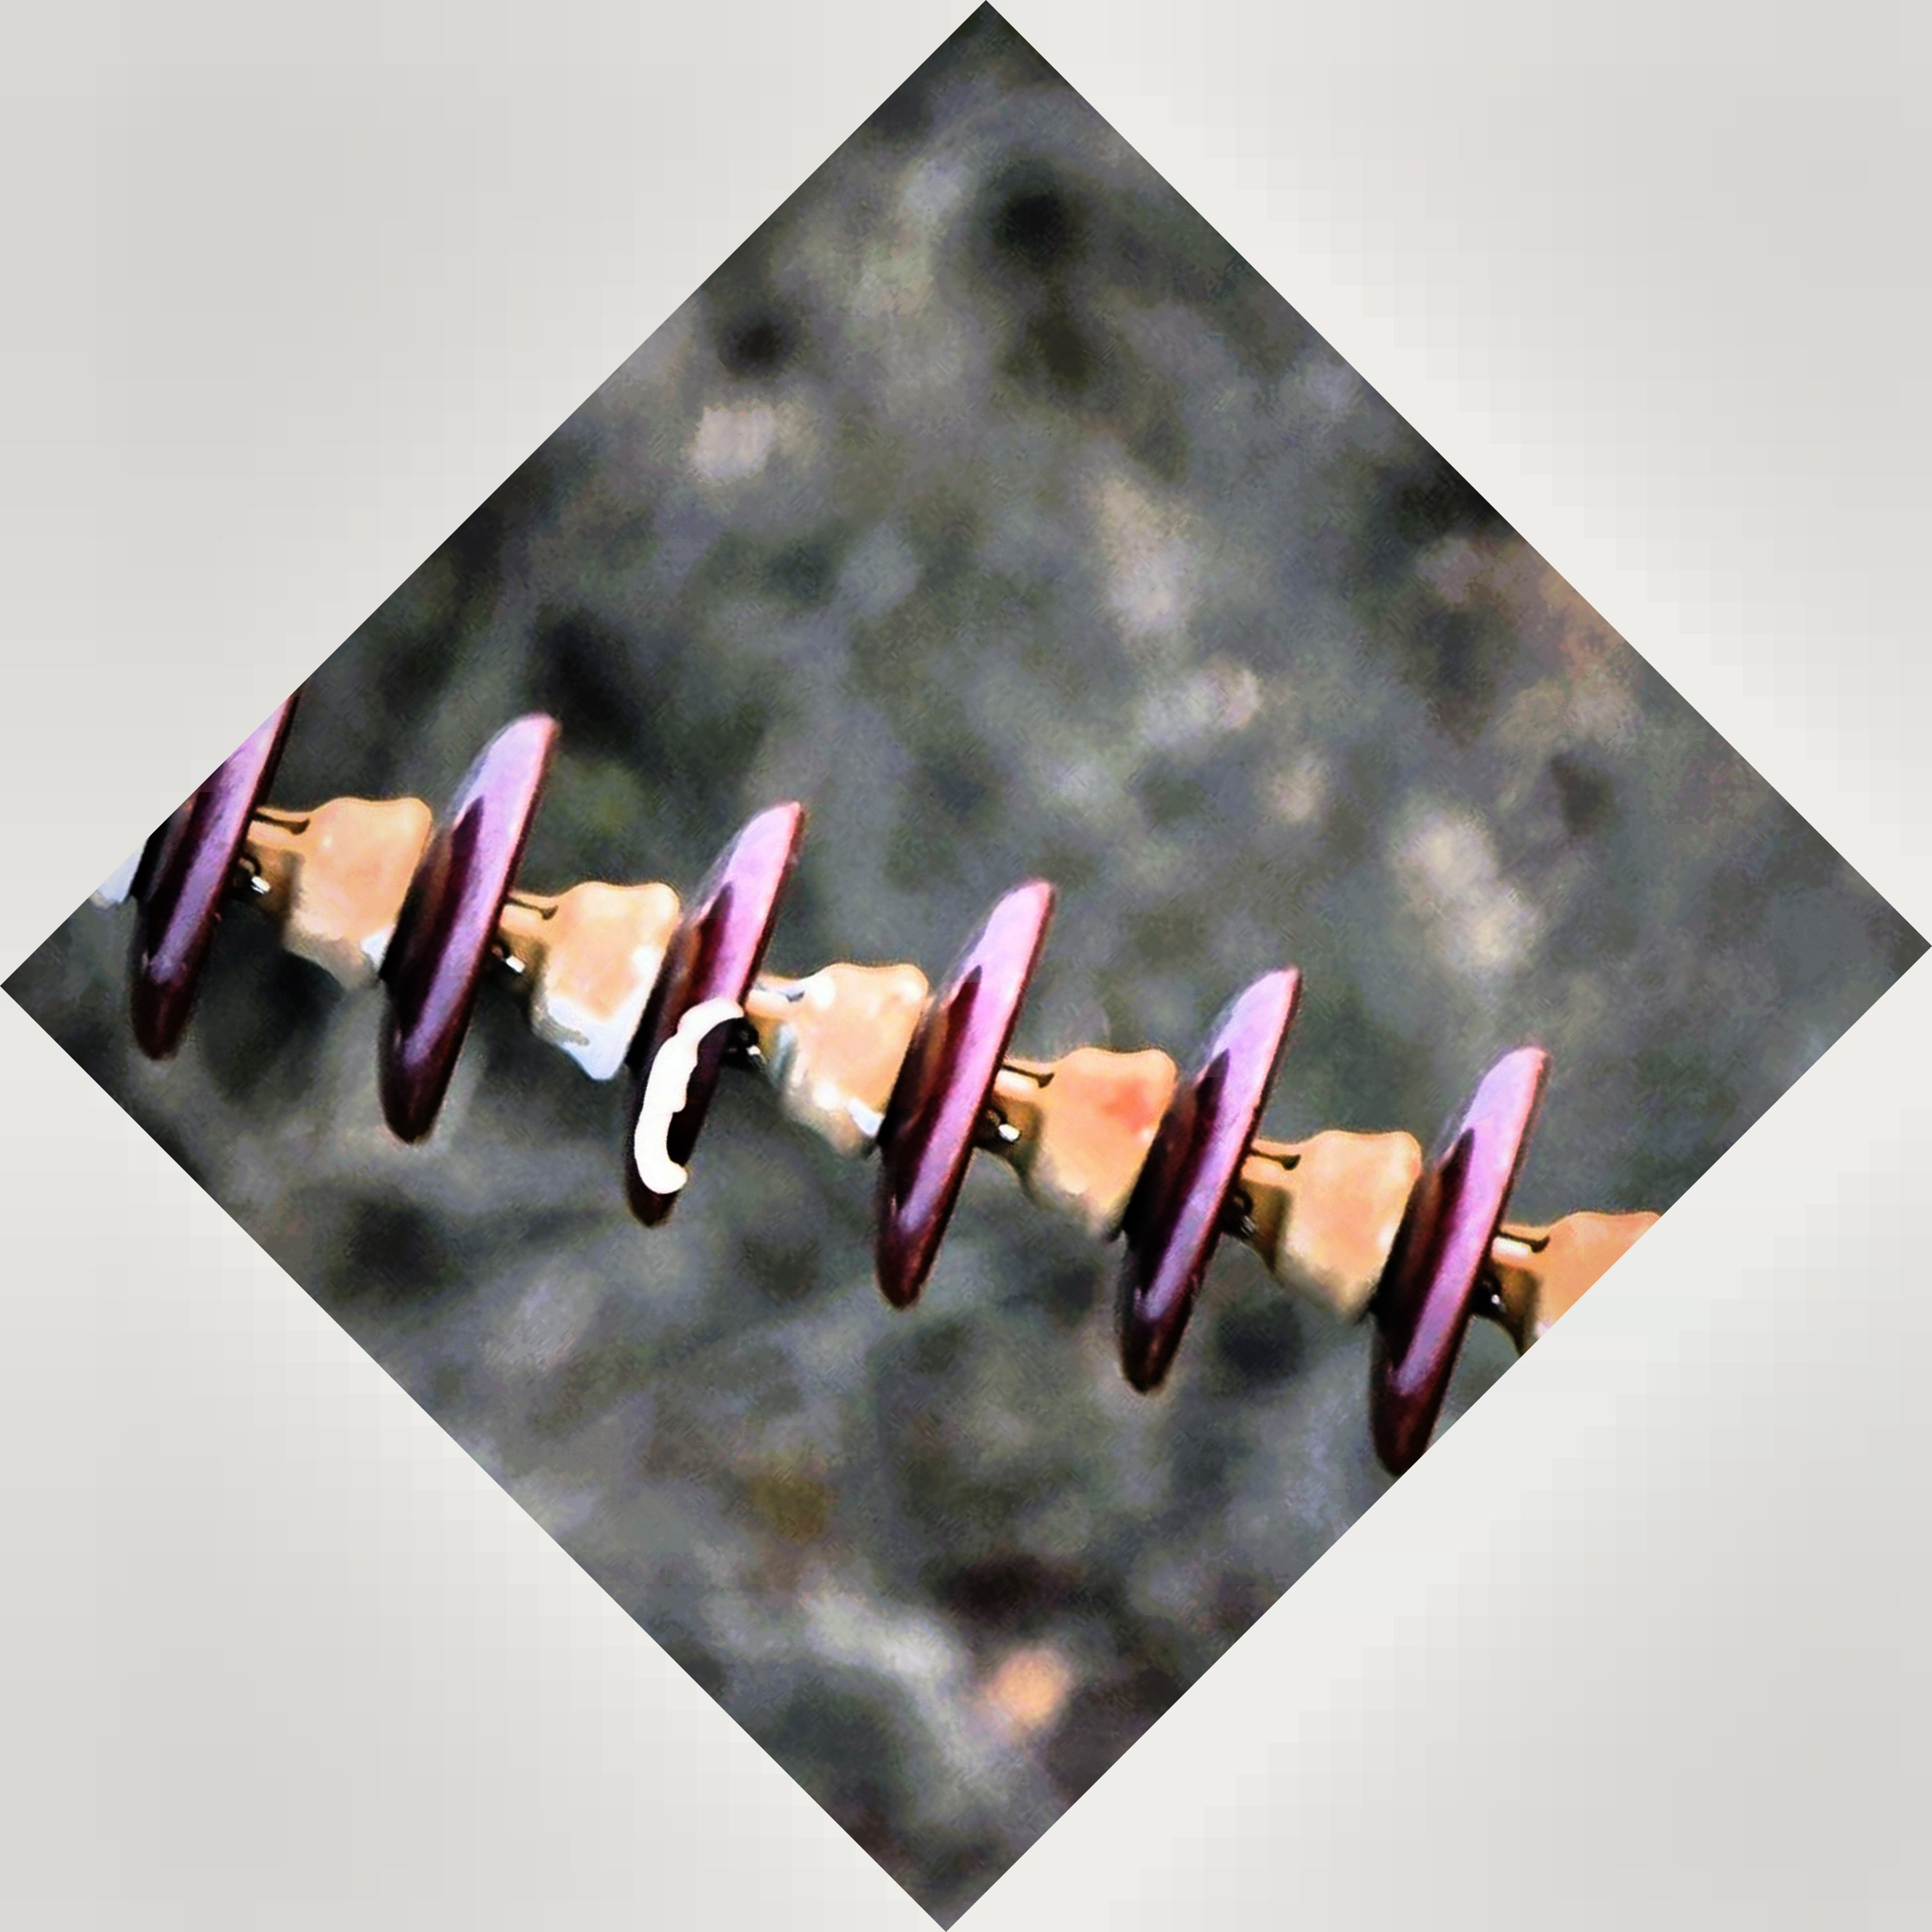insulator breakage: (614, 763, 840, 1235)
